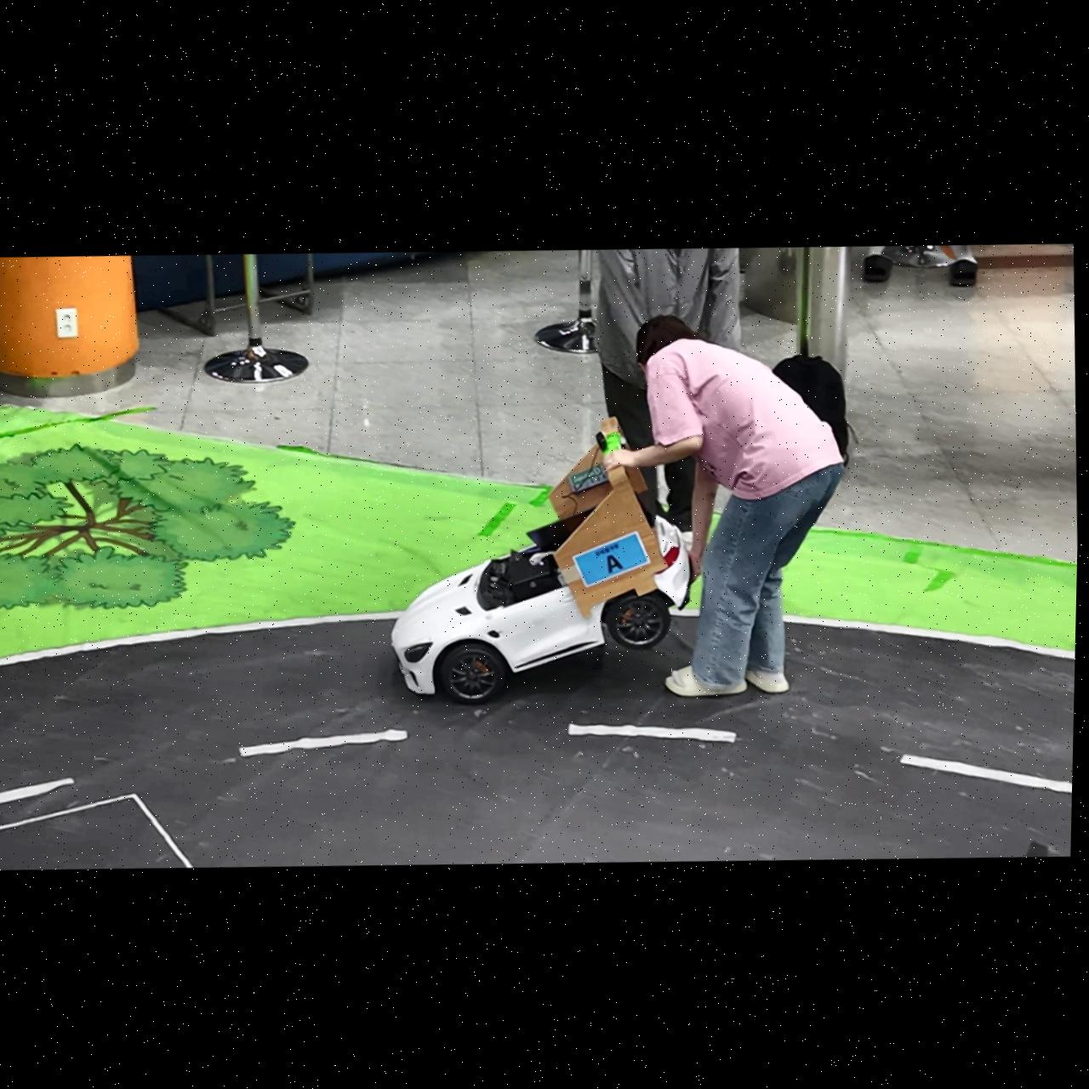broken_line: (899, 754, 1072, 793), (240, 729, 407, 757), (567, 723, 736, 742), (0, 777, 73, 803)
